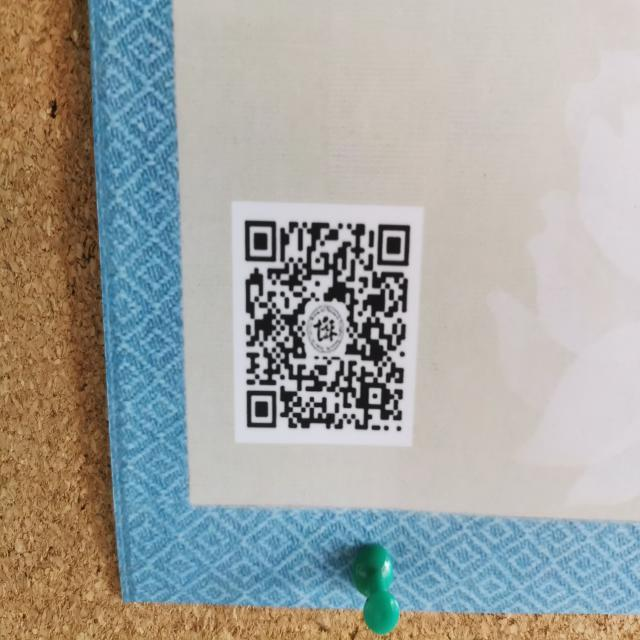qr_code: (244, 220, 410, 432)
